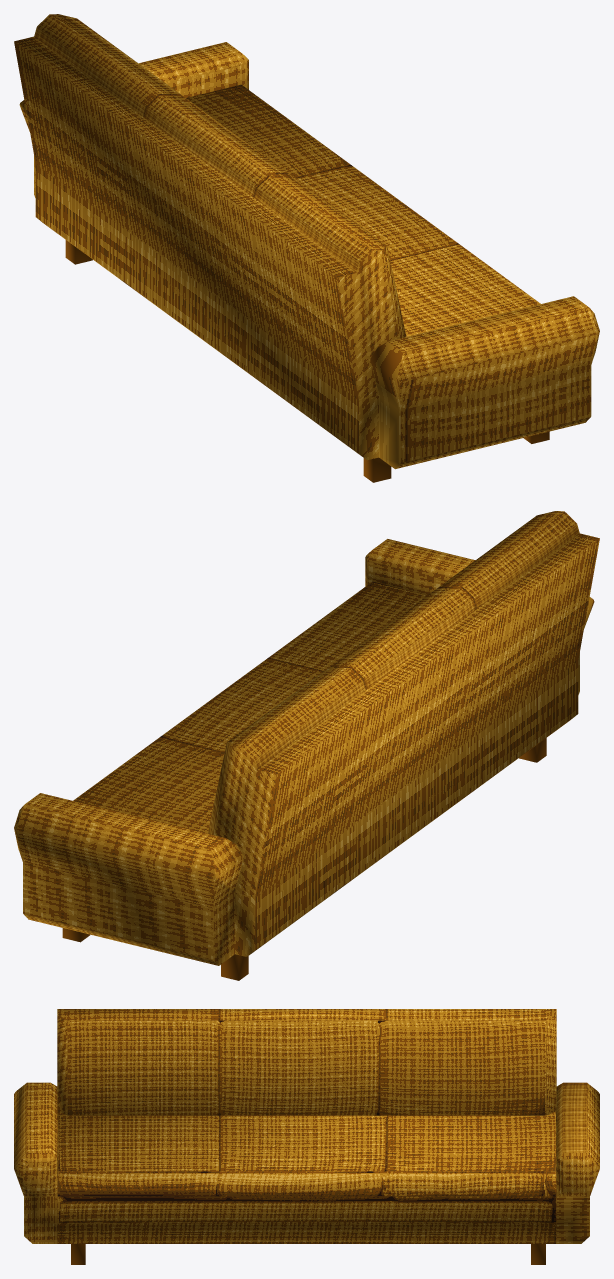
File: sofaPs1.glb
3 views of the same model, one above another, from view 1: azimuth 30°, elevation 25°; view 2: azimuth 150°, elevation 25°; view 3: azimuth 270°, elevation 25° (orthographic). The views are drawn at different scales.
Visible parts, largest first — view 1: Sofa; view 2: Sofa; view 3: Sofa.
Boxes of the visible parts, bbox=[...] form: Sofa: bbox=[14, 14, 599, 482]; Sofa: bbox=[14, 511, 599, 980]; Sofa: bbox=[14, 1009, 599, 1264].
Bounding box in the file's own units: 1.68 × 1.61 × 4.6.
Materials: 1 (1 with a texture image).
